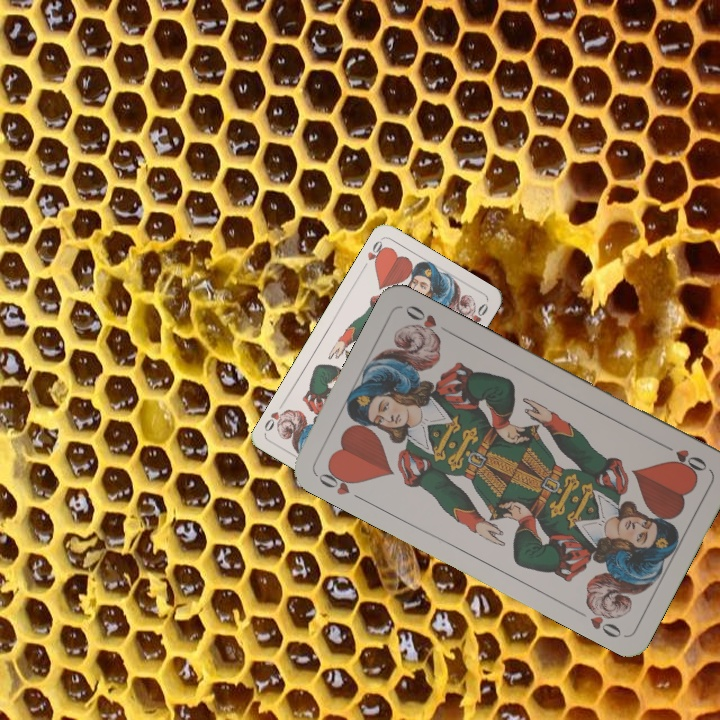HO: (314, 462, 368, 504), (657, 439, 710, 476), (358, 236, 389, 273)
